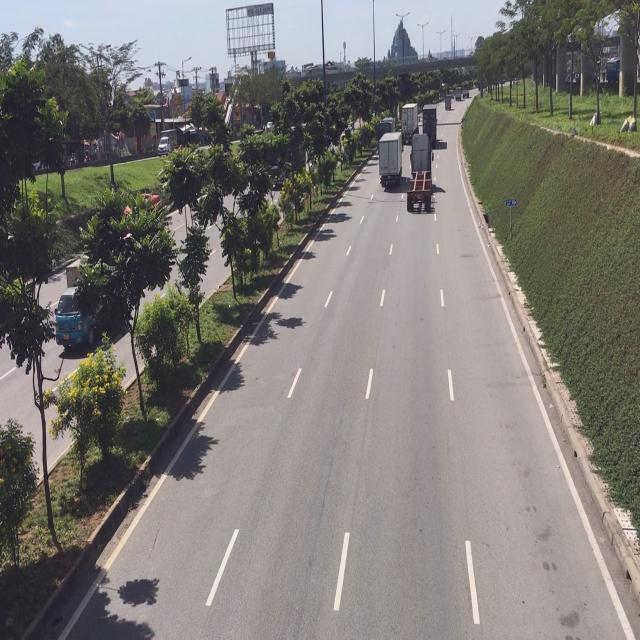truck: (408, 132, 435, 210), (378, 132, 404, 193)
